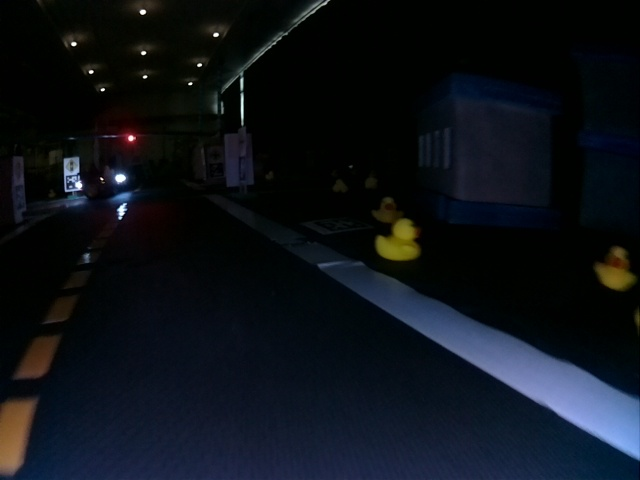Duckie: (376, 221, 419, 261), (597, 248, 631, 289), (374, 198, 399, 221), (334, 182, 346, 192), (366, 180, 375, 187)
QR code: (304, 217, 369, 235), (66, 175, 79, 190)
Signal sign: (65, 160, 78, 172)
Traffic light: (126, 134, 136, 142)
